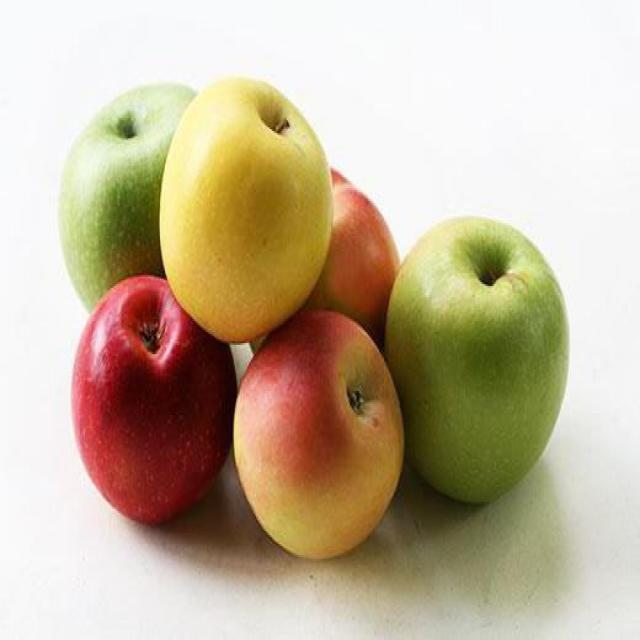Fresh Apple: (384, 224, 568, 498), (50, 274, 236, 532), (158, 72, 330, 344)
